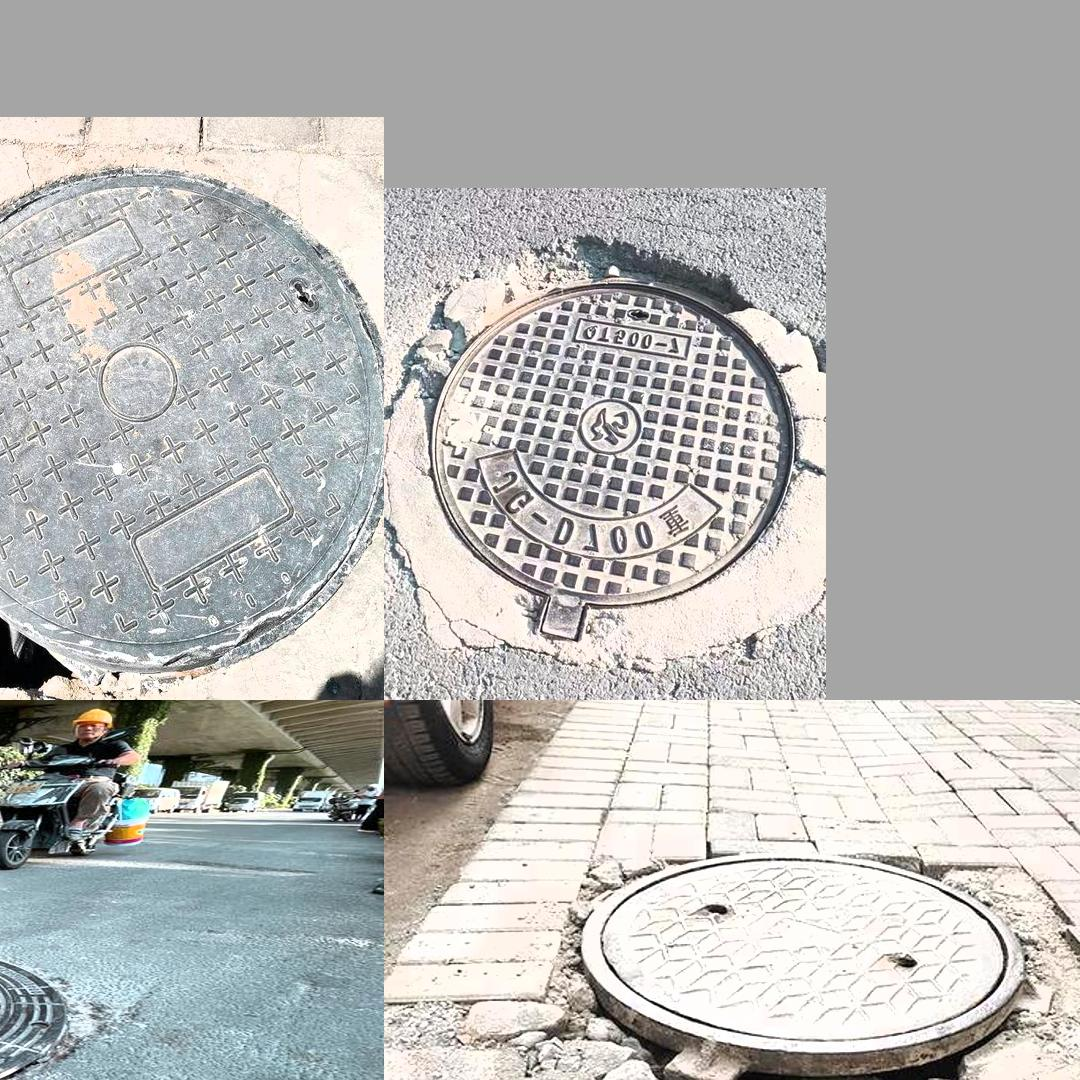circle: (0, 171, 373, 683), (398, 248, 812, 660), (466, 853, 1080, 1080), (0, 916, 154, 1080)
